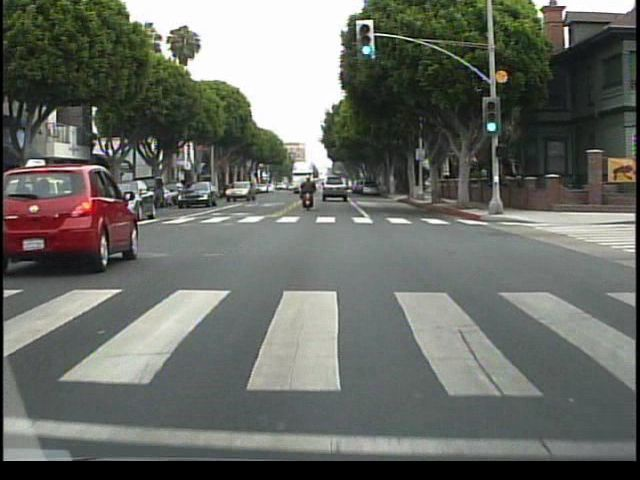person: (299, 175, 320, 217)
